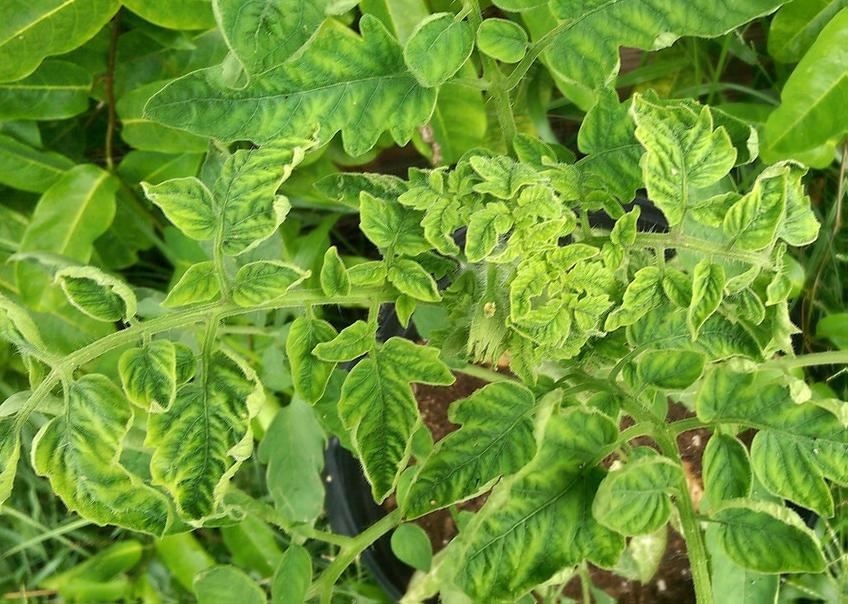Tomato leaf yellow virus: (444, 385, 659, 604), (129, 30, 452, 156), (296, 316, 474, 512), (35, 368, 186, 580), (686, 341, 848, 529), (538, 0, 808, 111), (0, 164, 120, 361), (154, 338, 267, 543), (394, 375, 553, 513), (182, 131, 311, 268), (753, 0, 848, 176), (206, 0, 388, 89), (0, 0, 131, 122), (627, 96, 745, 227), (586, 436, 698, 554), (51, 264, 141, 329), (227, 252, 312, 314), (683, 258, 731, 341), (603, 269, 664, 332), (461, 200, 514, 271), (506, 301, 578, 352), (383, 259, 449, 305), (318, 243, 354, 309)
